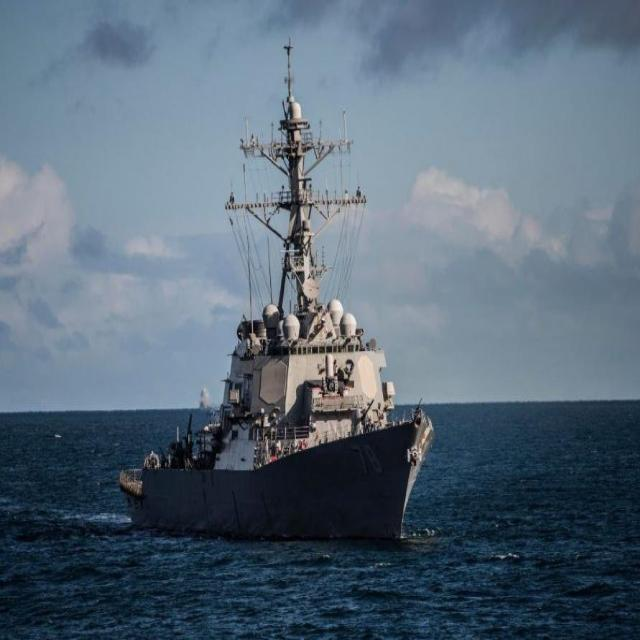navalvessels: (106, 60, 435, 562)
